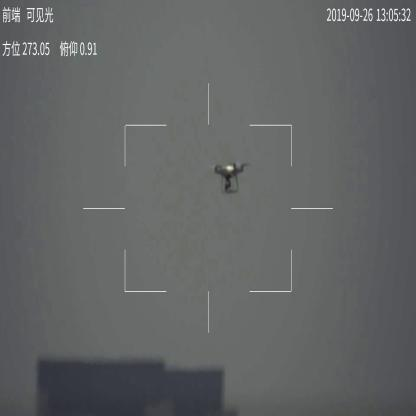uav: (205, 158, 252, 196)
